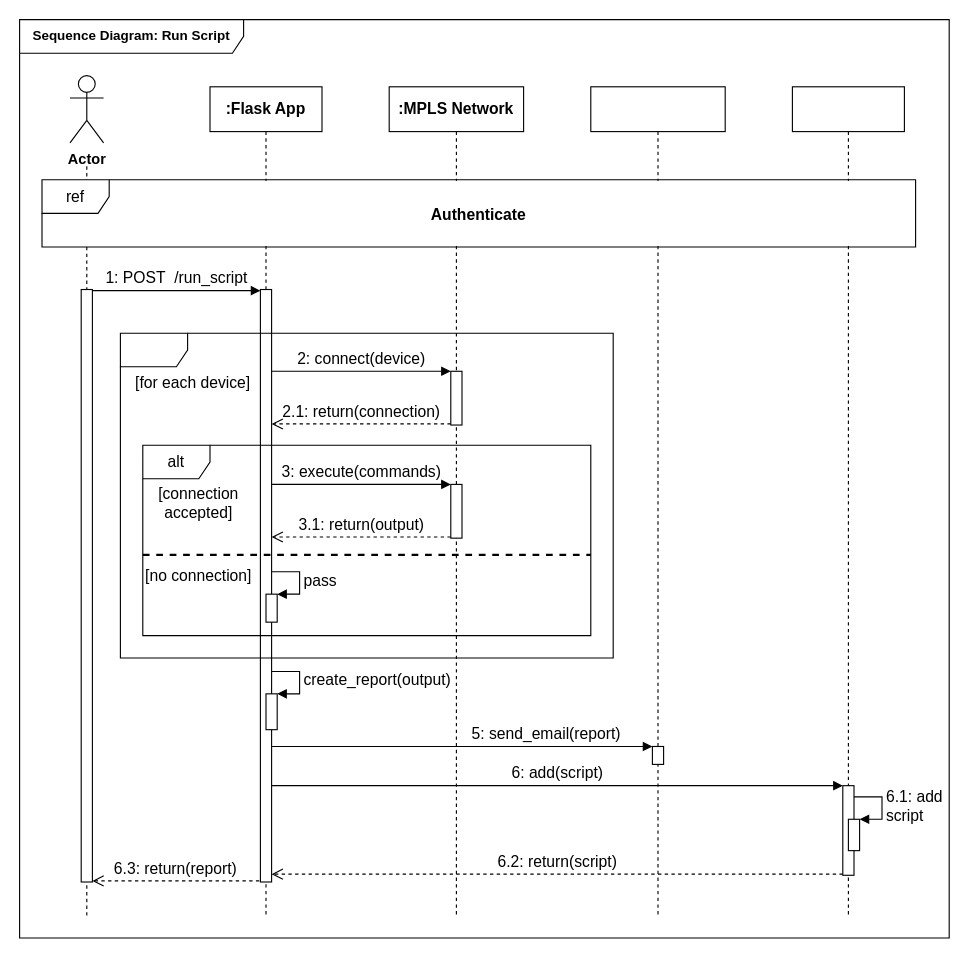
The diagram is 969 pixels wide and 958 high, and some of its shapes have lost their labels. The box of each missing label's shape, as (x1, y1, x2, y2) in pixels:
:MailServer: (590, 86, 725, 916)
:PostgreSQL: (791, 86, 904, 916)
loop: (119, 332, 613, 658)
